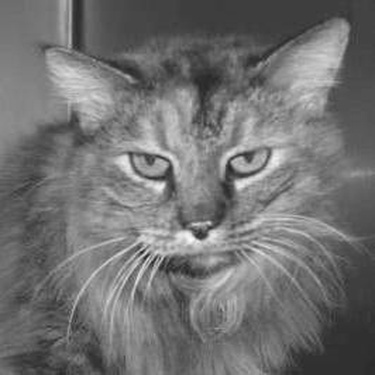cat: (9, 15, 355, 371)
